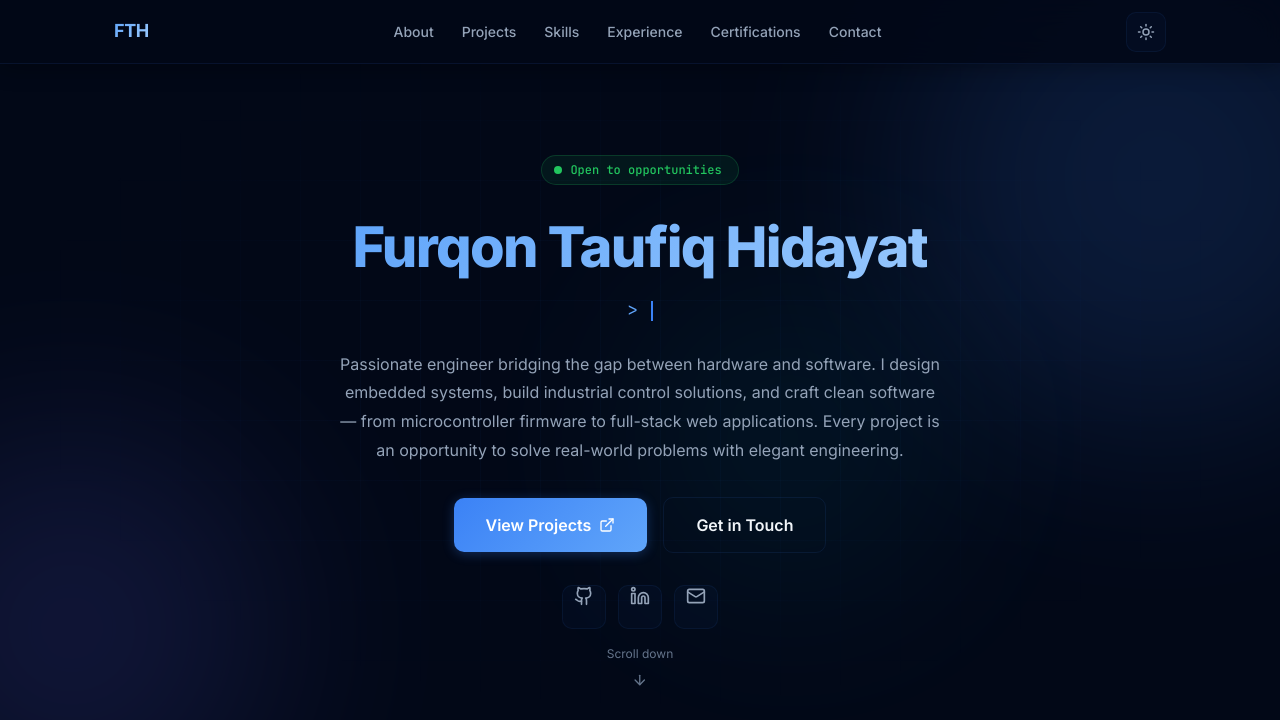
Scenario: App root component › should toggle theme from dark to light across the application
Click the button named "Switch to light mode" at coordinates (1146, 32), box left=1126, top=12, right=1166, bottom=52
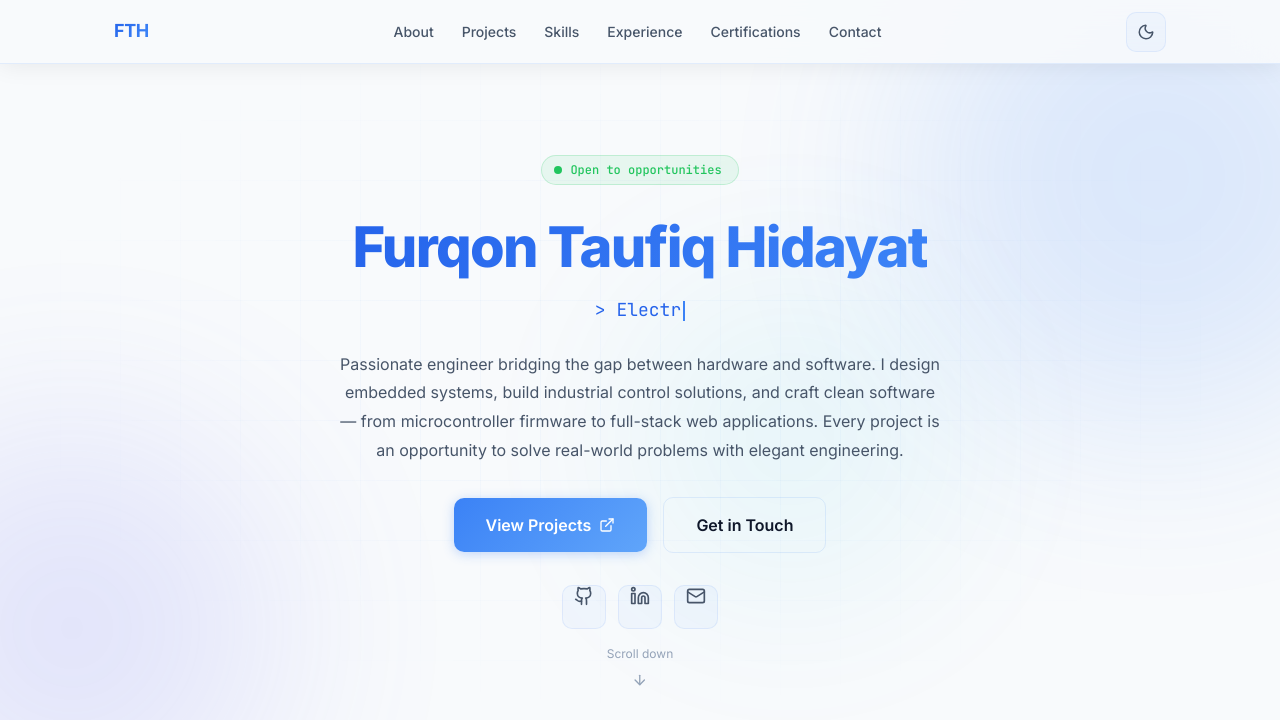
Now the button named "Switch to dark mode" is shown, box left=1126, top=12, right=1166, bottom=52
